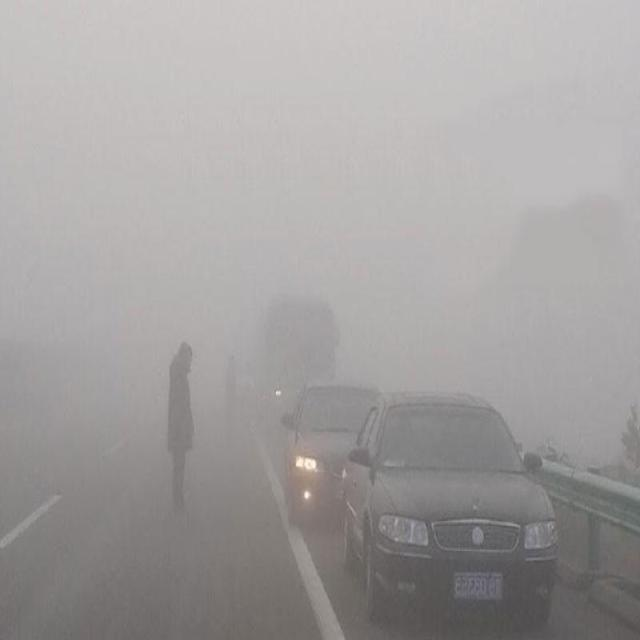Bus: (252, 294, 341, 430)
Car: (344, 389, 560, 637), (284, 386, 384, 519)
